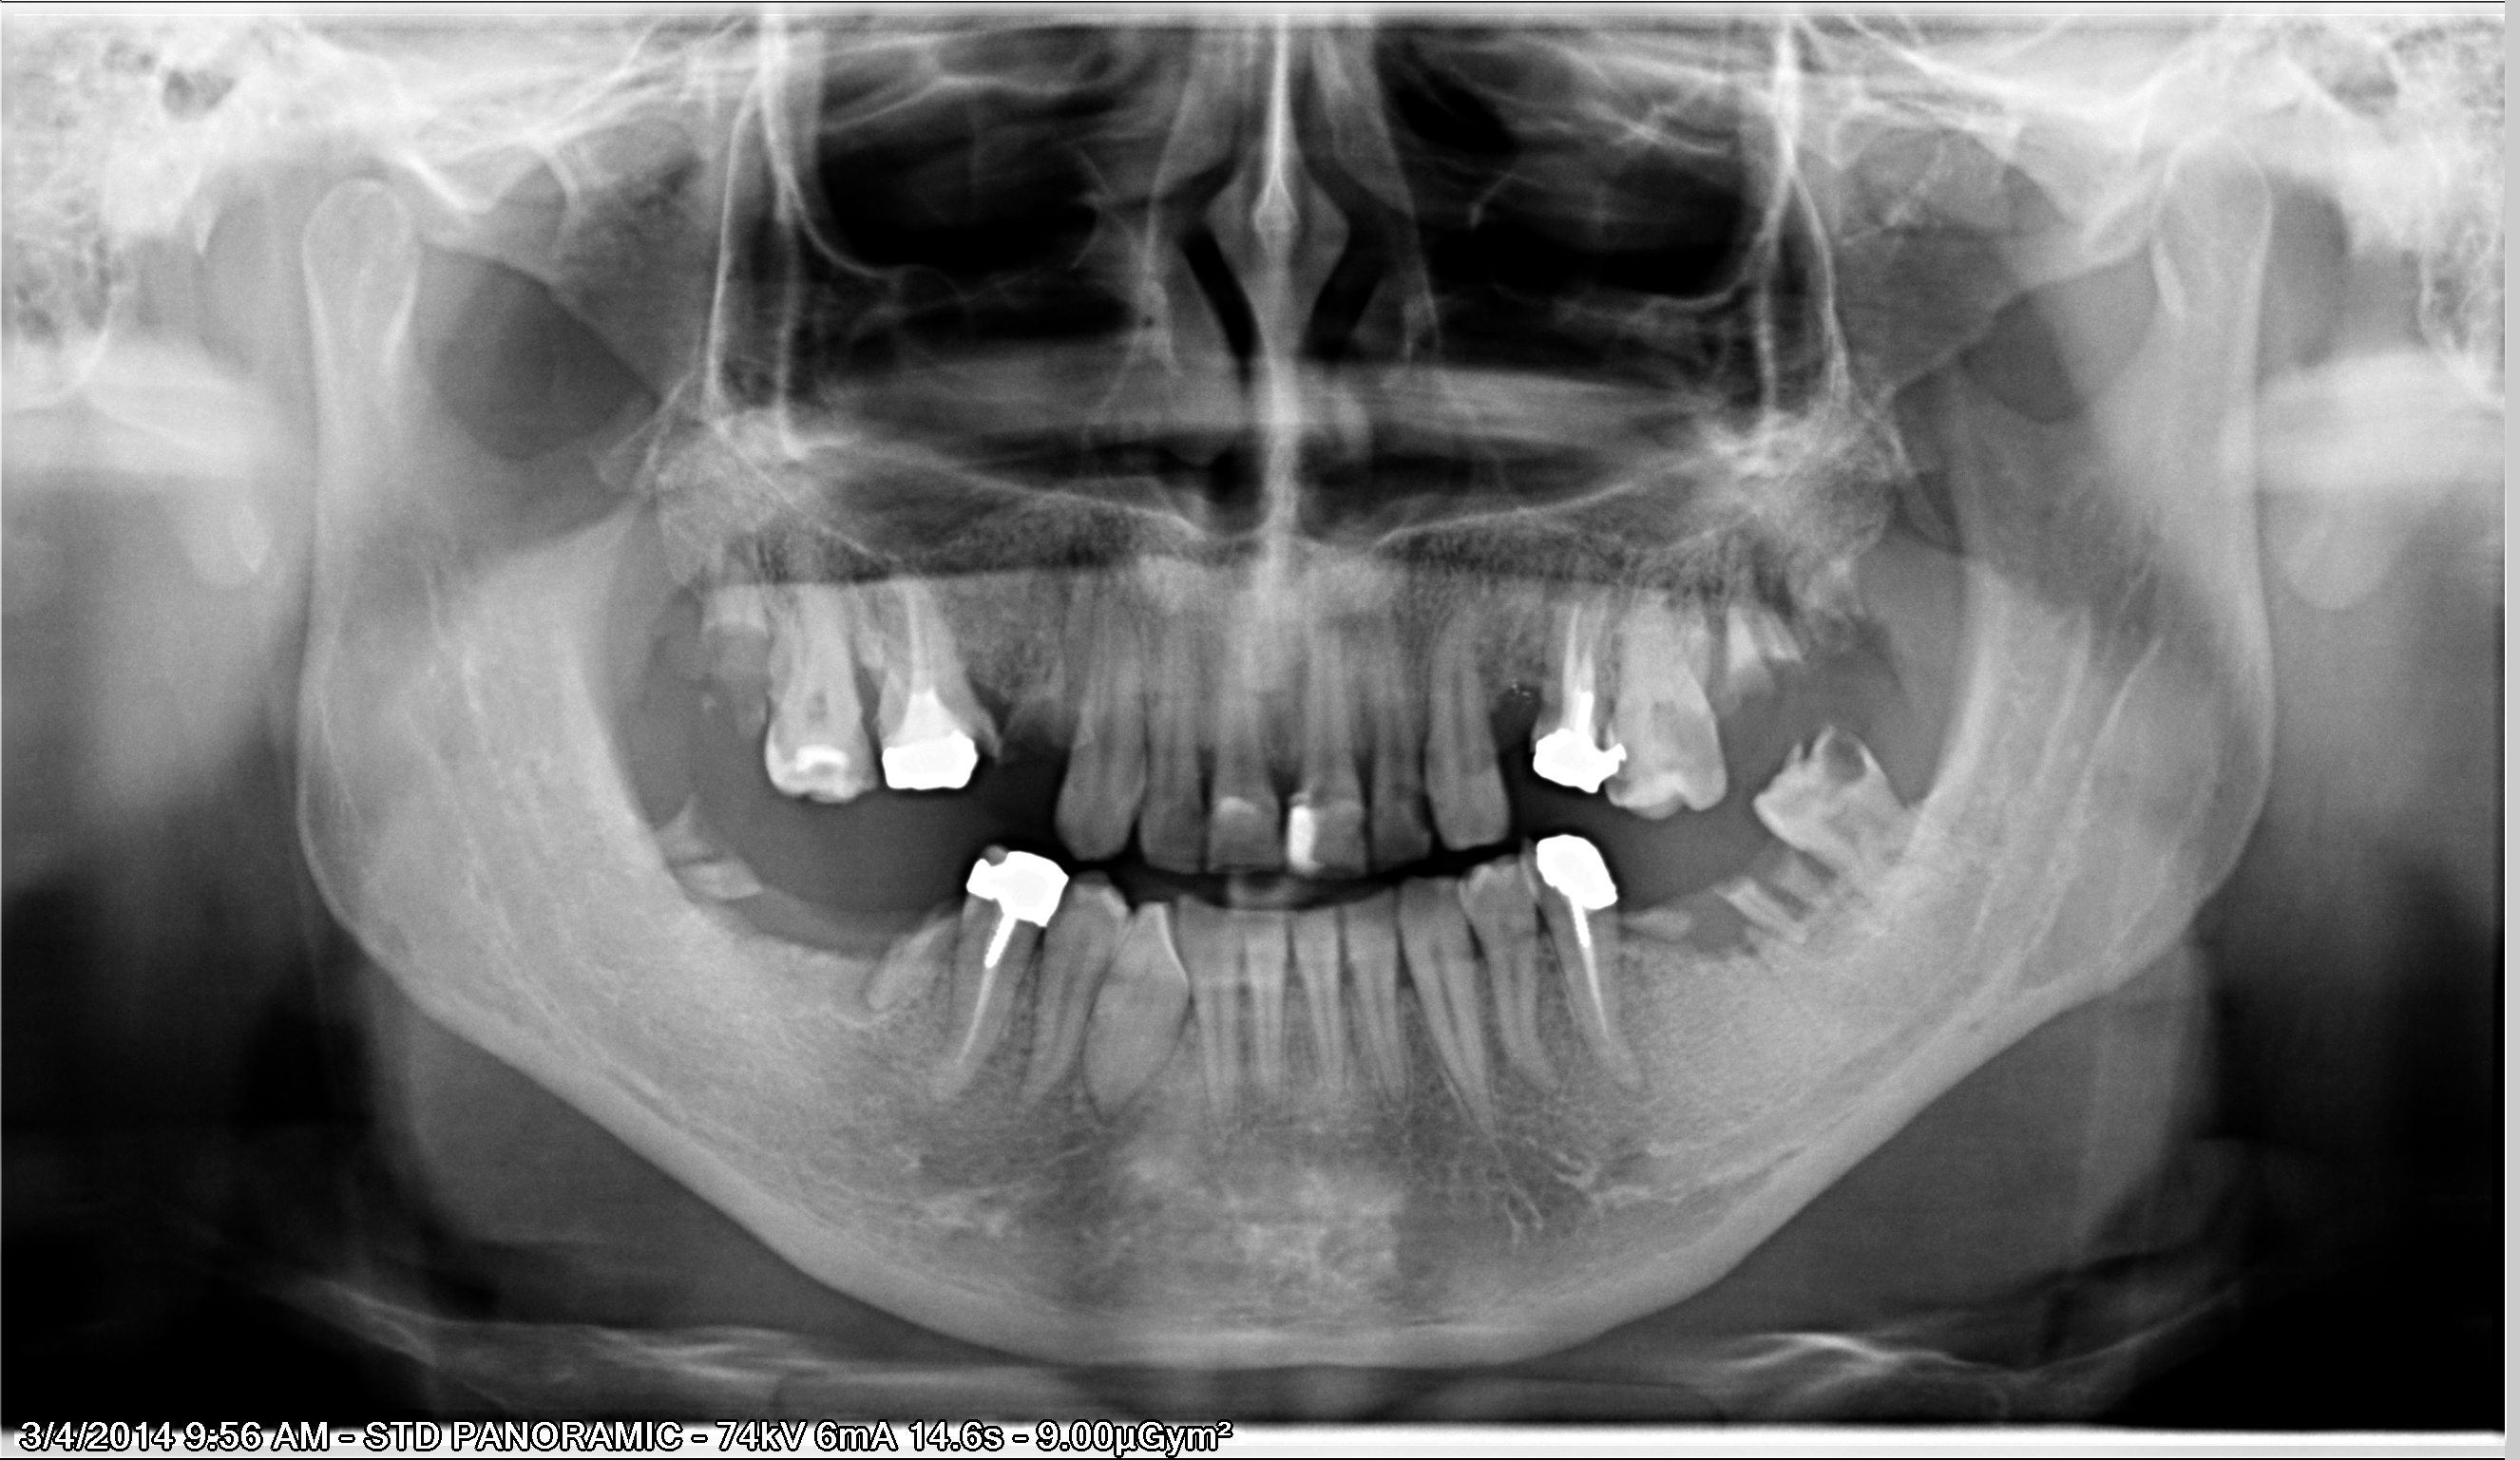API: (756, 492, 2437, 1460), (349, 440, 1269, 1460)
CAR: (832, 294, 2520, 1109), (761, 327, 2423, 1142), (650, 356, 2105, 1199), (638, 375, 2026, 1232), (450, 325, 1449, 1104), (384, 325, 1274, 1088), (276, 228, 1064, 970)
END: (754, 379, 2369, 1451), (728, 214, 2357, 935), (414, 382, 1446, 1460), (382, 200, 1333, 899)
OBT: (700, 363, 2336, 1290), (700, 304, 2338, 1109), (601, 341, 1936, 1218), (560, 363, 1832, 1208), (393, 381, 1486, 1307), (388, 285, 1373, 1090), (349, 339, 1204, 1123)
ROT: (789, 389, 2520, 1344), (756, 410, 2468, 1370), (796, 367, 2520, 1298), (813, 219, 2520, 939), (827, 177, 2520, 852), (839, 245, 2520, 921), (433, 228, 1529, 970), (261, 374, 1041, 1304), (247, 332, 973, 1229)
